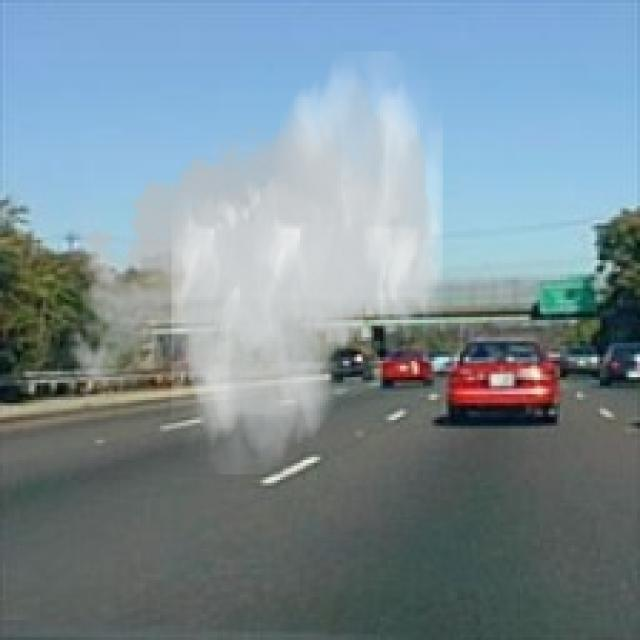Smoke: (57, 52, 443, 474)
